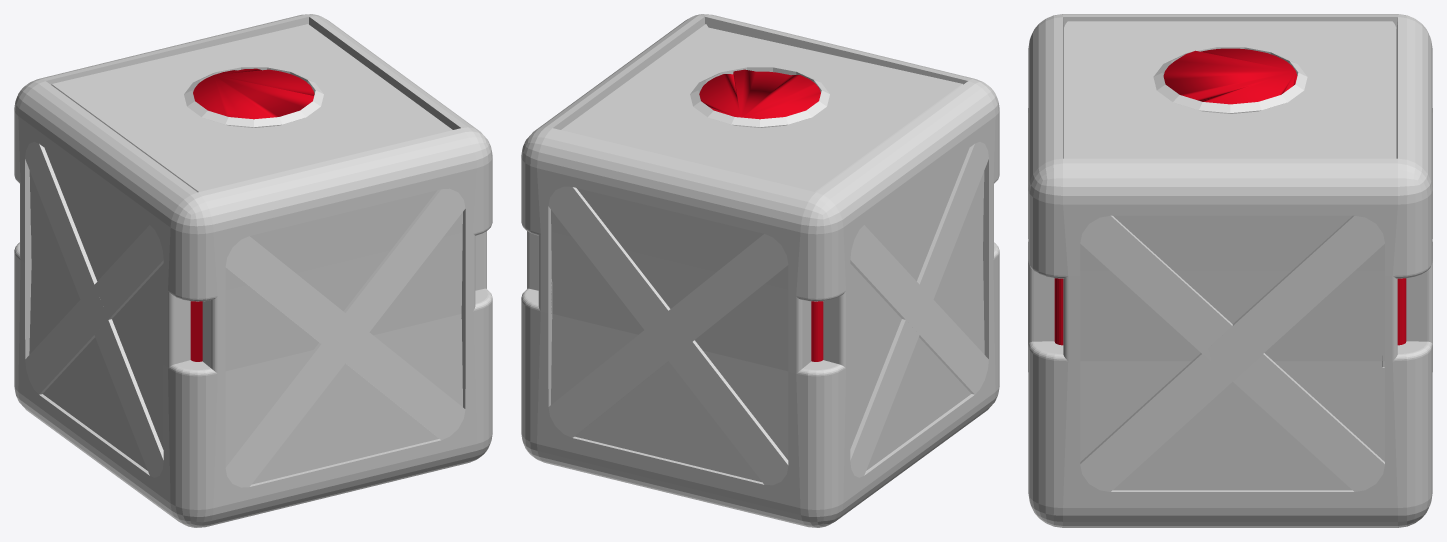
Rendered from Space_Crate.fbx.
3 renders of one model, left to right at view 1: azimuth 30°, elevation 25°; view 2: azimuth 150°, elevation 25°; view 3: azimuth 270°, elevation 25°, orthographic. The views are drawn at different scales.
Visible parts, largest first — view 1: Space Crate; view 2: Space Crate; view 3: Space Crate.
Boxes of the visible parts, x1,y1,x2,y2 form: Space Crate: (14, 14, 492, 527); Space Crate: (521, 14, 999, 527); Space Crate: (1028, 14, 1432, 527).
Bounding box in the file's own units: 200 × 208 × 200.
